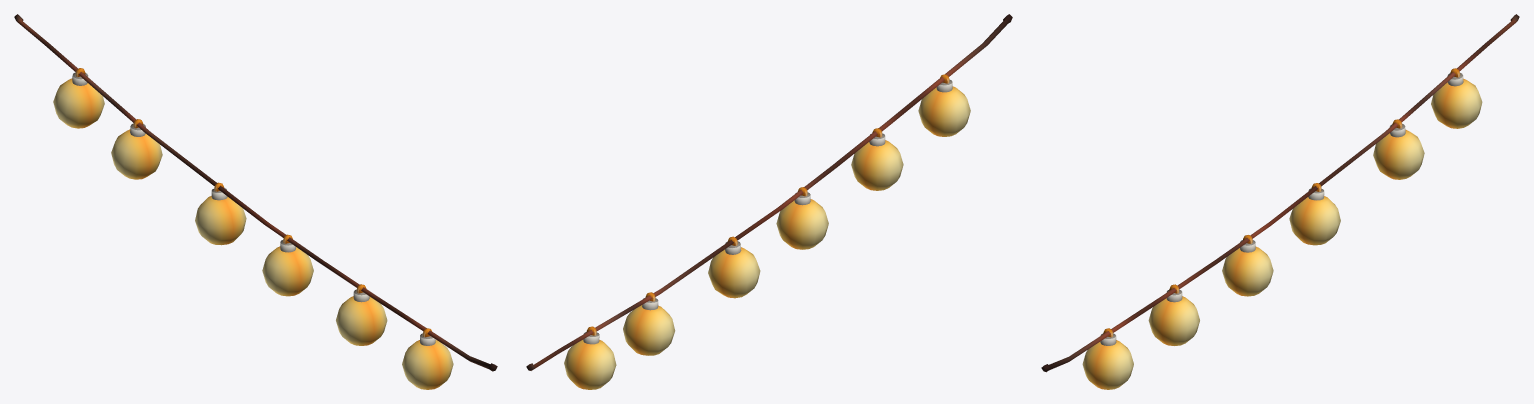
Rendered from FSS_obj_WiretLight_L.FBX.
3 renders of one model, left to right at view 1: azimuth 30°, elevation 25°; view 2: azimuth 150°, elevation 25°; view 3: azimuth 330°, elevation 25°, orthographic.
Parts seen in each view (by area): view 1: FSS_obj_WiretLight_L; view 2: FSS_obj_WiretLight_L; view 3: FSS_obj_WiretLight_L.
Part boxes in pixels (left/top/right/bottom): FSS_obj_WiretLight_L: left=14, top=14, right=497, bottom=389; FSS_obj_WiretLight_L: left=526, top=14, right=1012, bottom=389; FSS_obj_WiretLight_L: left=1041, top=14, right=1519, bottom=389.
Size of the model in its own units: 25.94 by 479 by 45.85.
